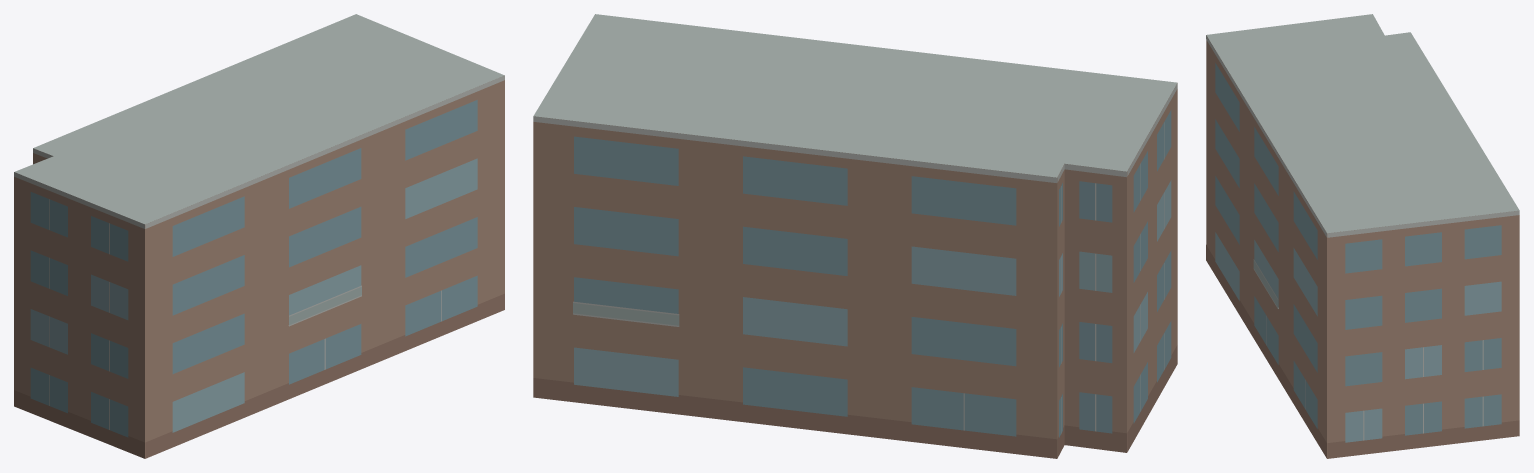
File: survey-upis-32523037.glb
3 views of the same model, side by side, from view 1: azimuth 30°, elevation 25°; view 2: azimuth 150°, elevation 25°; view 3: azimuth 270°, elevation 25° (orthographic). The views are drawn at different scales.
Visible parts, largest first — view 1: survey-upis-32523037.tmp; view 2: survey-upis-32523037.tmp; view 3: survey-upis-32523037.tmp.
Part boxes in pixels (box(x1,y1,x2,y2)): survey-upis-32523037.tmp: box(14, 14, 504, 458); survey-upis-32523037.tmp: box(533, 14, 1177, 458); survey-upis-32523037.tmp: box(1206, 14, 1519, 458).
Size of the model in its own units: 25.45 by 12.2 by 15.38.
